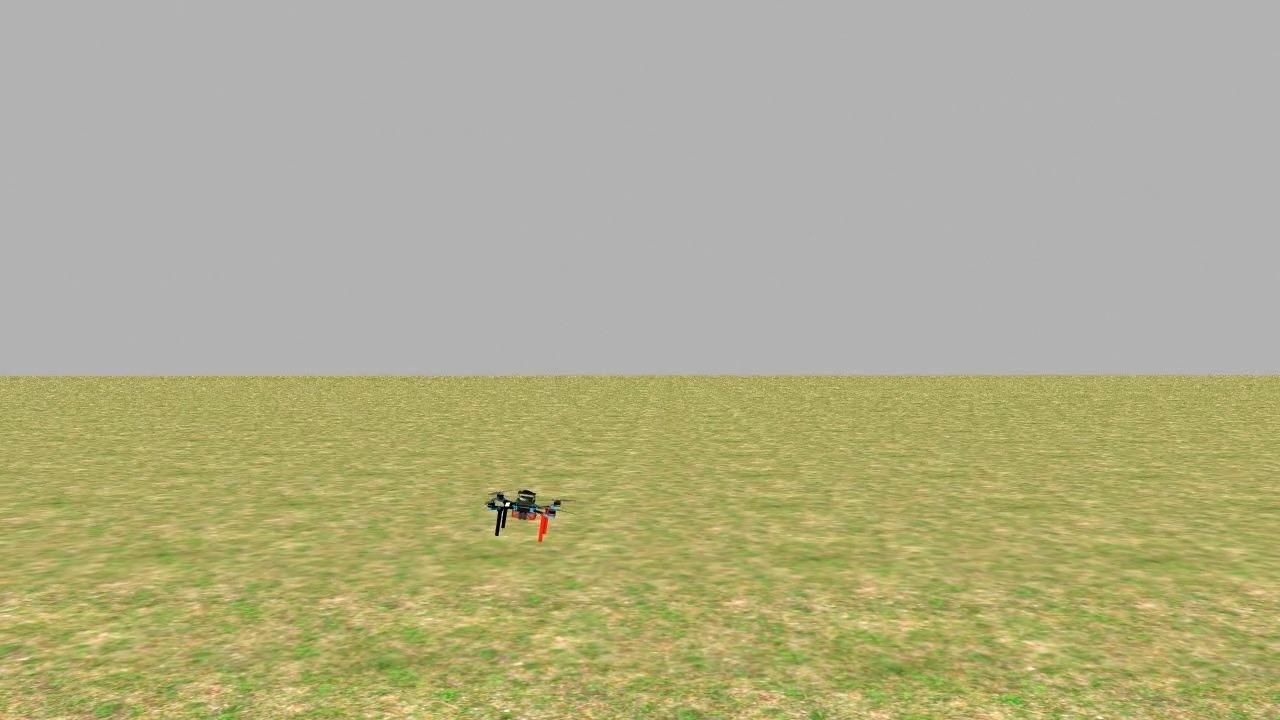UAV: (471, 472, 572, 547)
